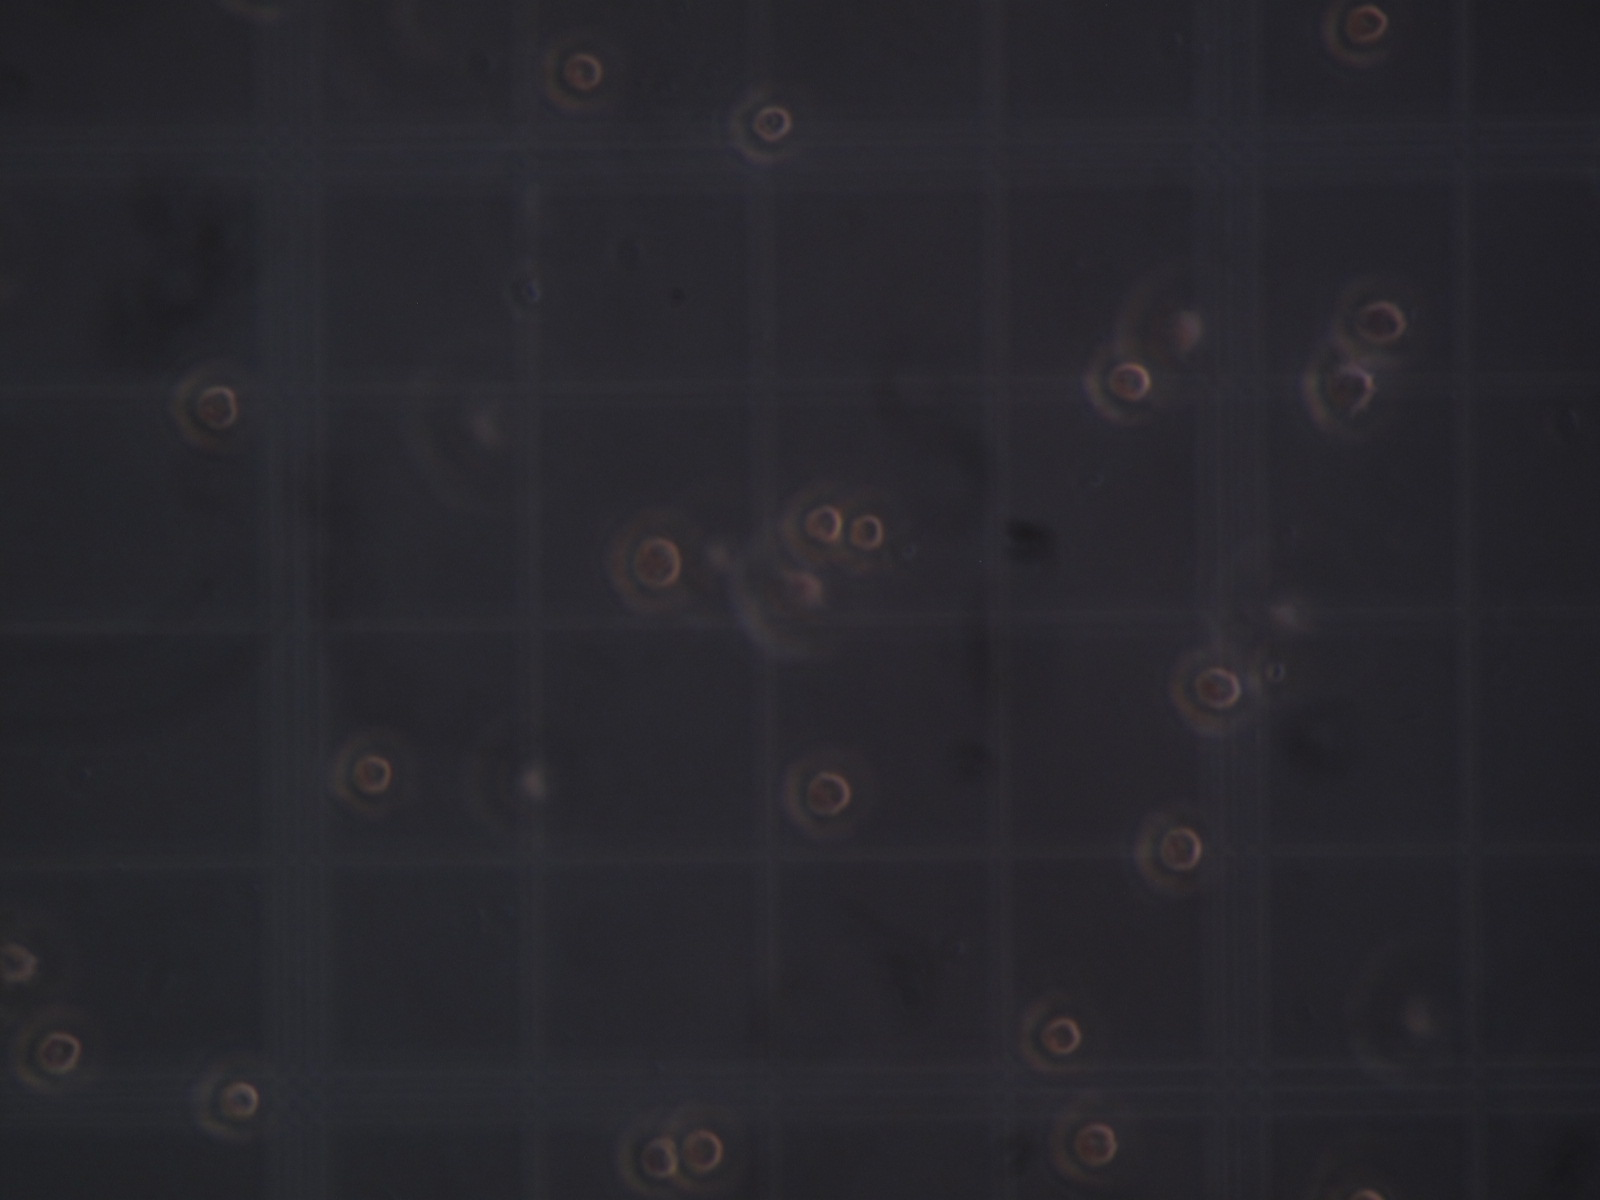hemo: (731, 542, 826, 661), (1330, 280, 1409, 368), (607, 521, 682, 613), (1169, 649, 1241, 736), (1301, 350, 1374, 432), (170, 368, 238, 453), (13, 1012, 82, 1094), (1134, 813, 1202, 892), (784, 758, 850, 838), (1049, 1107, 1117, 1184), (1083, 349, 1151, 426), (191, 1066, 260, 1141), (616, 1121, 679, 1197), (333, 737, 393, 817), (728, 91, 792, 164), (1020, 1001, 1082, 1075), (542, 42, 603, 113), (784, 492, 844, 565), (671, 1105, 723, 1189), (1322, 3, 1390, 66), (1, 921, 39, 1020), (842, 495, 884, 574)
